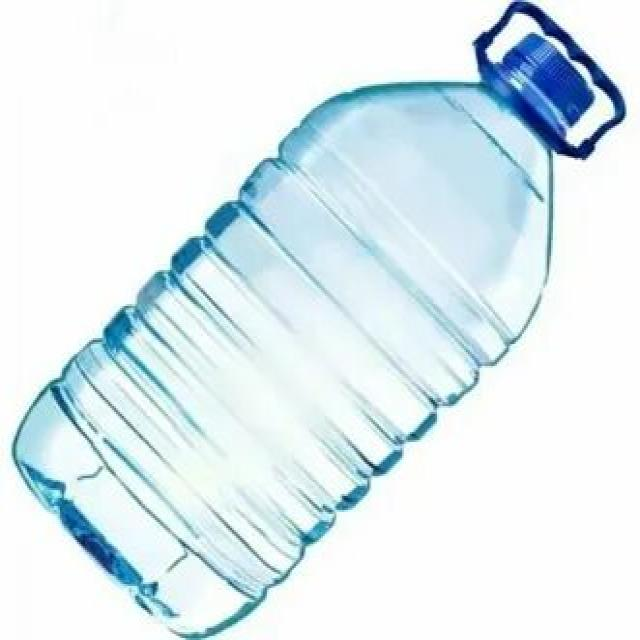blue: (13, 80, 556, 640)
